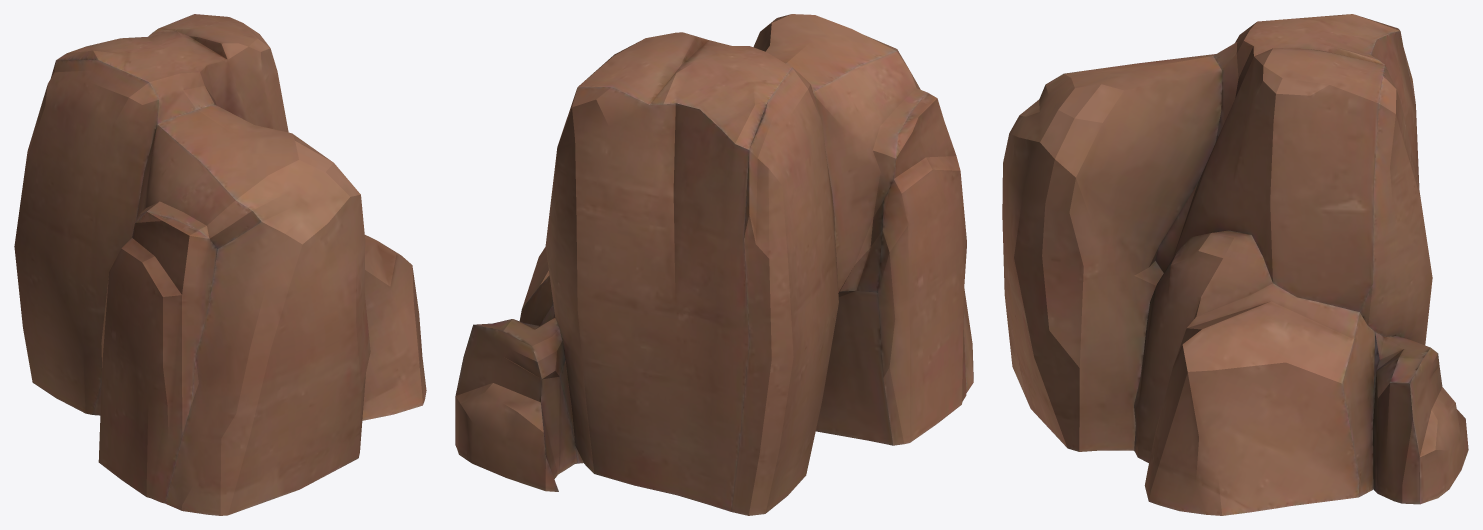
The picture shows the model from 3 angles, left to right: view 1: azimuth 30°, elevation 25°; view 2: azimuth 150°, elevation 25°; view 3: azimuth 270°, elevation 25°; orthographic projection. The views are drawn at different scales.
Parts seen in each view (by area): view 1: body0_model0_lod0_mesh0; view 2: body0_model0_lod0_mesh0; view 3: body0_model0_lod0_mesh0.
Part boxes in pixels (x1,y1,x2,y2): body0_model0_lod0_mesh0: (14, 14, 426, 515); body0_model0_lod0_mesh0: (455, 14, 973, 515); body0_model0_lod0_mesh0: (1002, 14, 1468, 515).
Size of the model in its own units: 215 by 221 by 247.
1 material, 1 textured.
